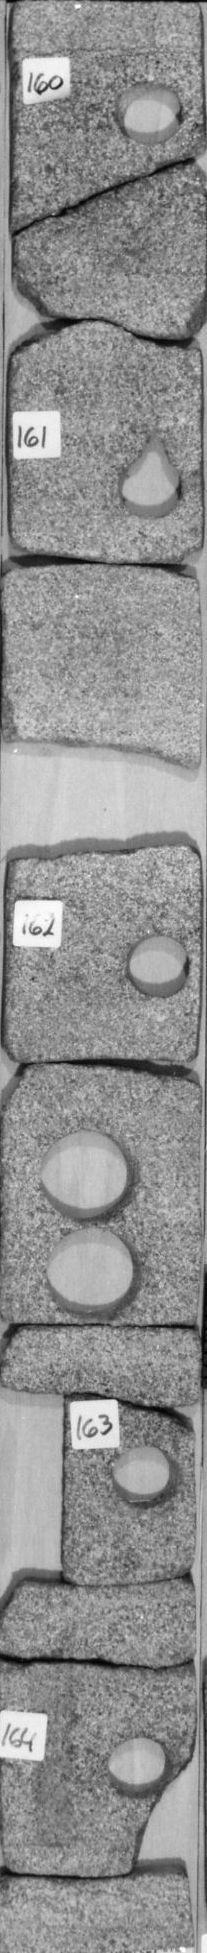hplug: (106, 431, 195, 519), (108, 71, 195, 153), (99, 1435, 186, 1513), (116, 923, 196, 1006), (96, 1728, 175, 1801)
scal: (32, 1125, 146, 1227), (34, 1226, 148, 1325)
vplug: (1, 1379, 72, 1596)
